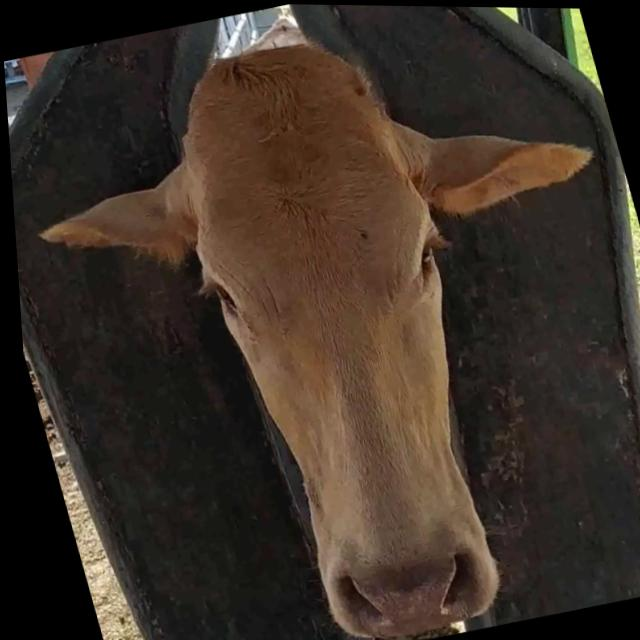cowFace: (147, 17, 543, 640)
